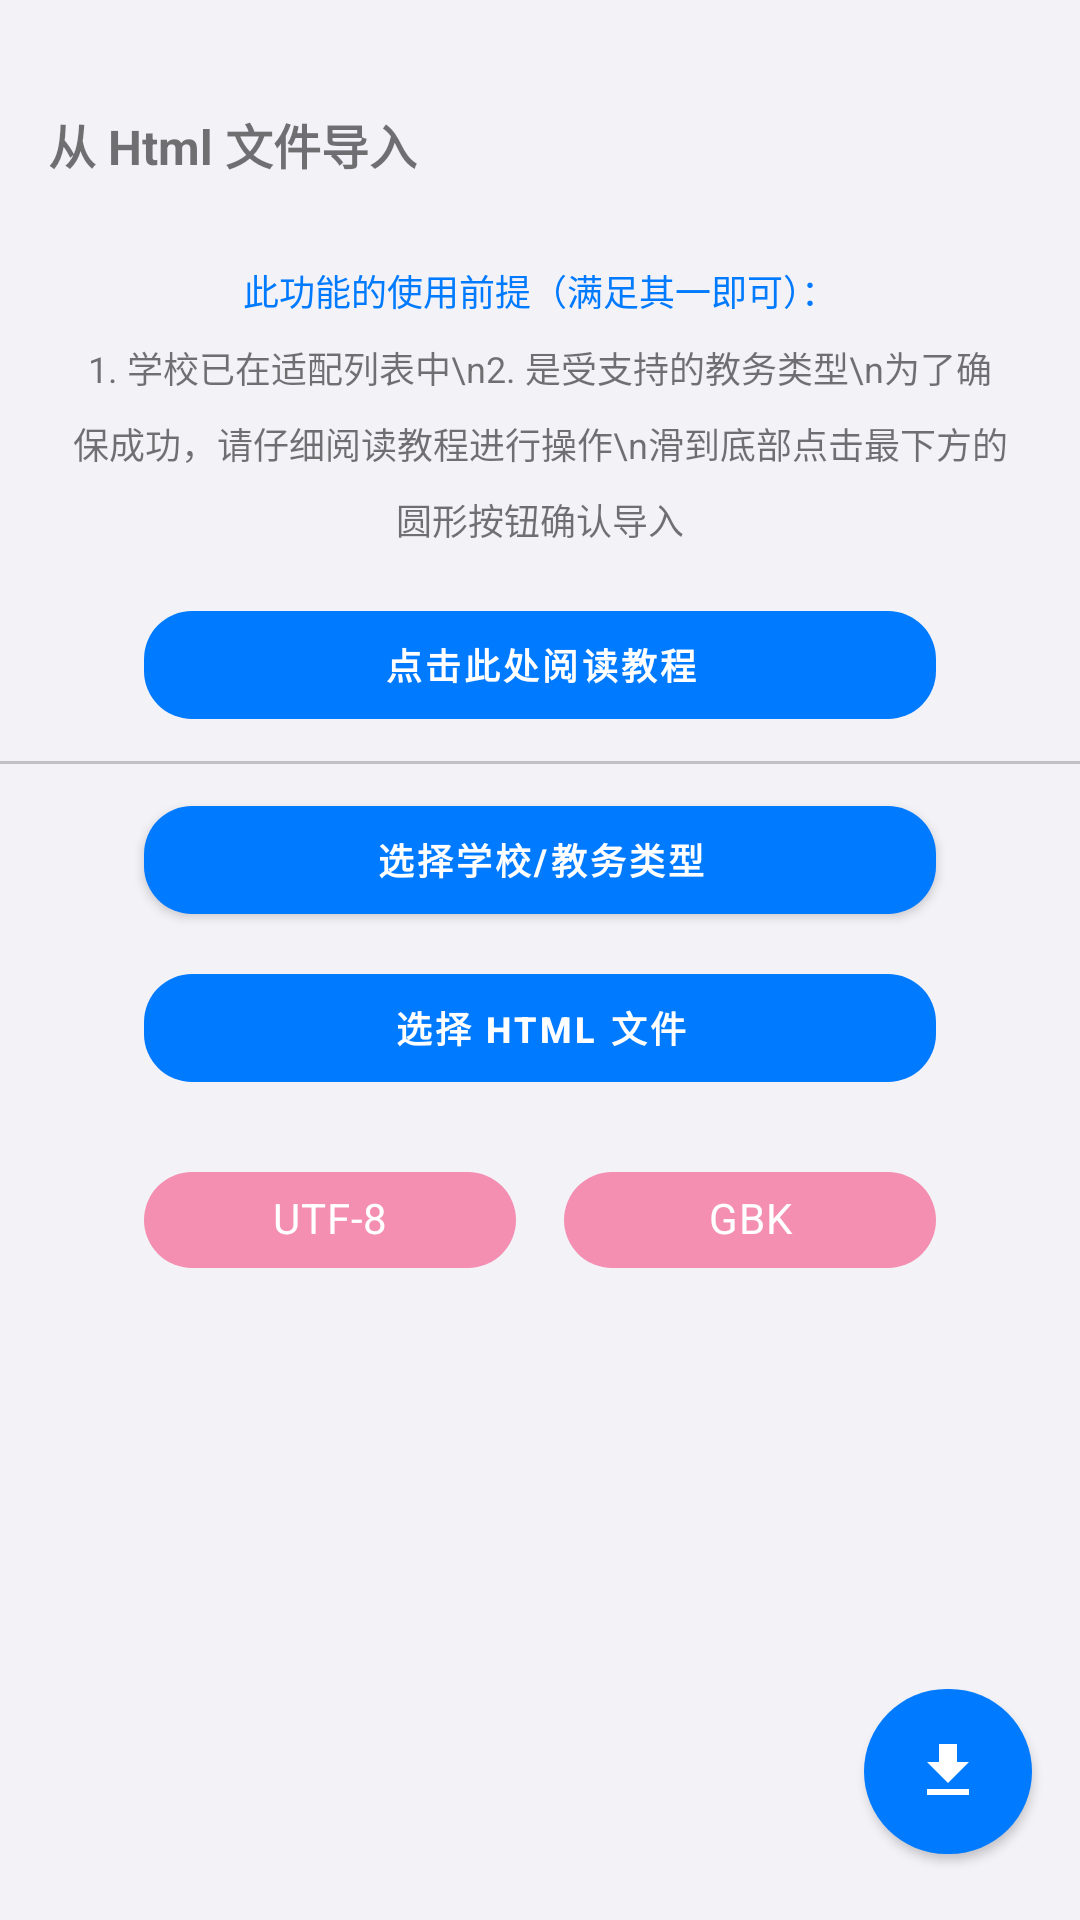

Where icons sit on this 1080x1920 app screen, as (left=x1, top=y1, right=x2, bottom=y2):
import download: (left=864, top=1689, right=1032, bottom=1860)
